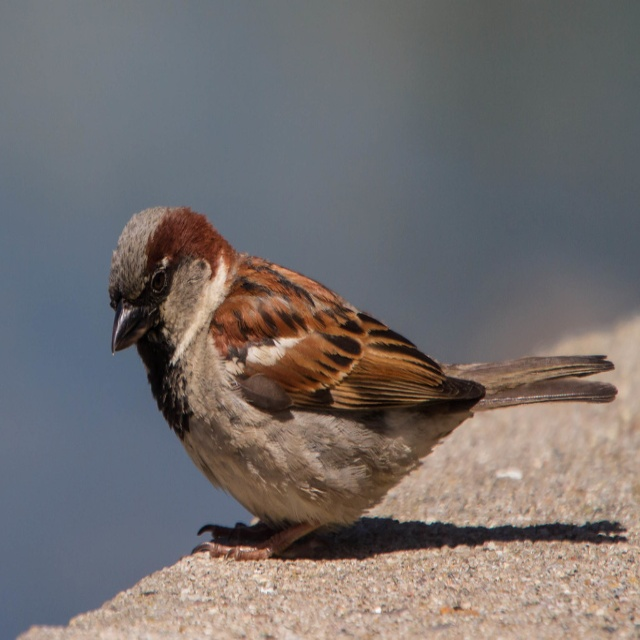Sparrow: (106, 202, 622, 569)
